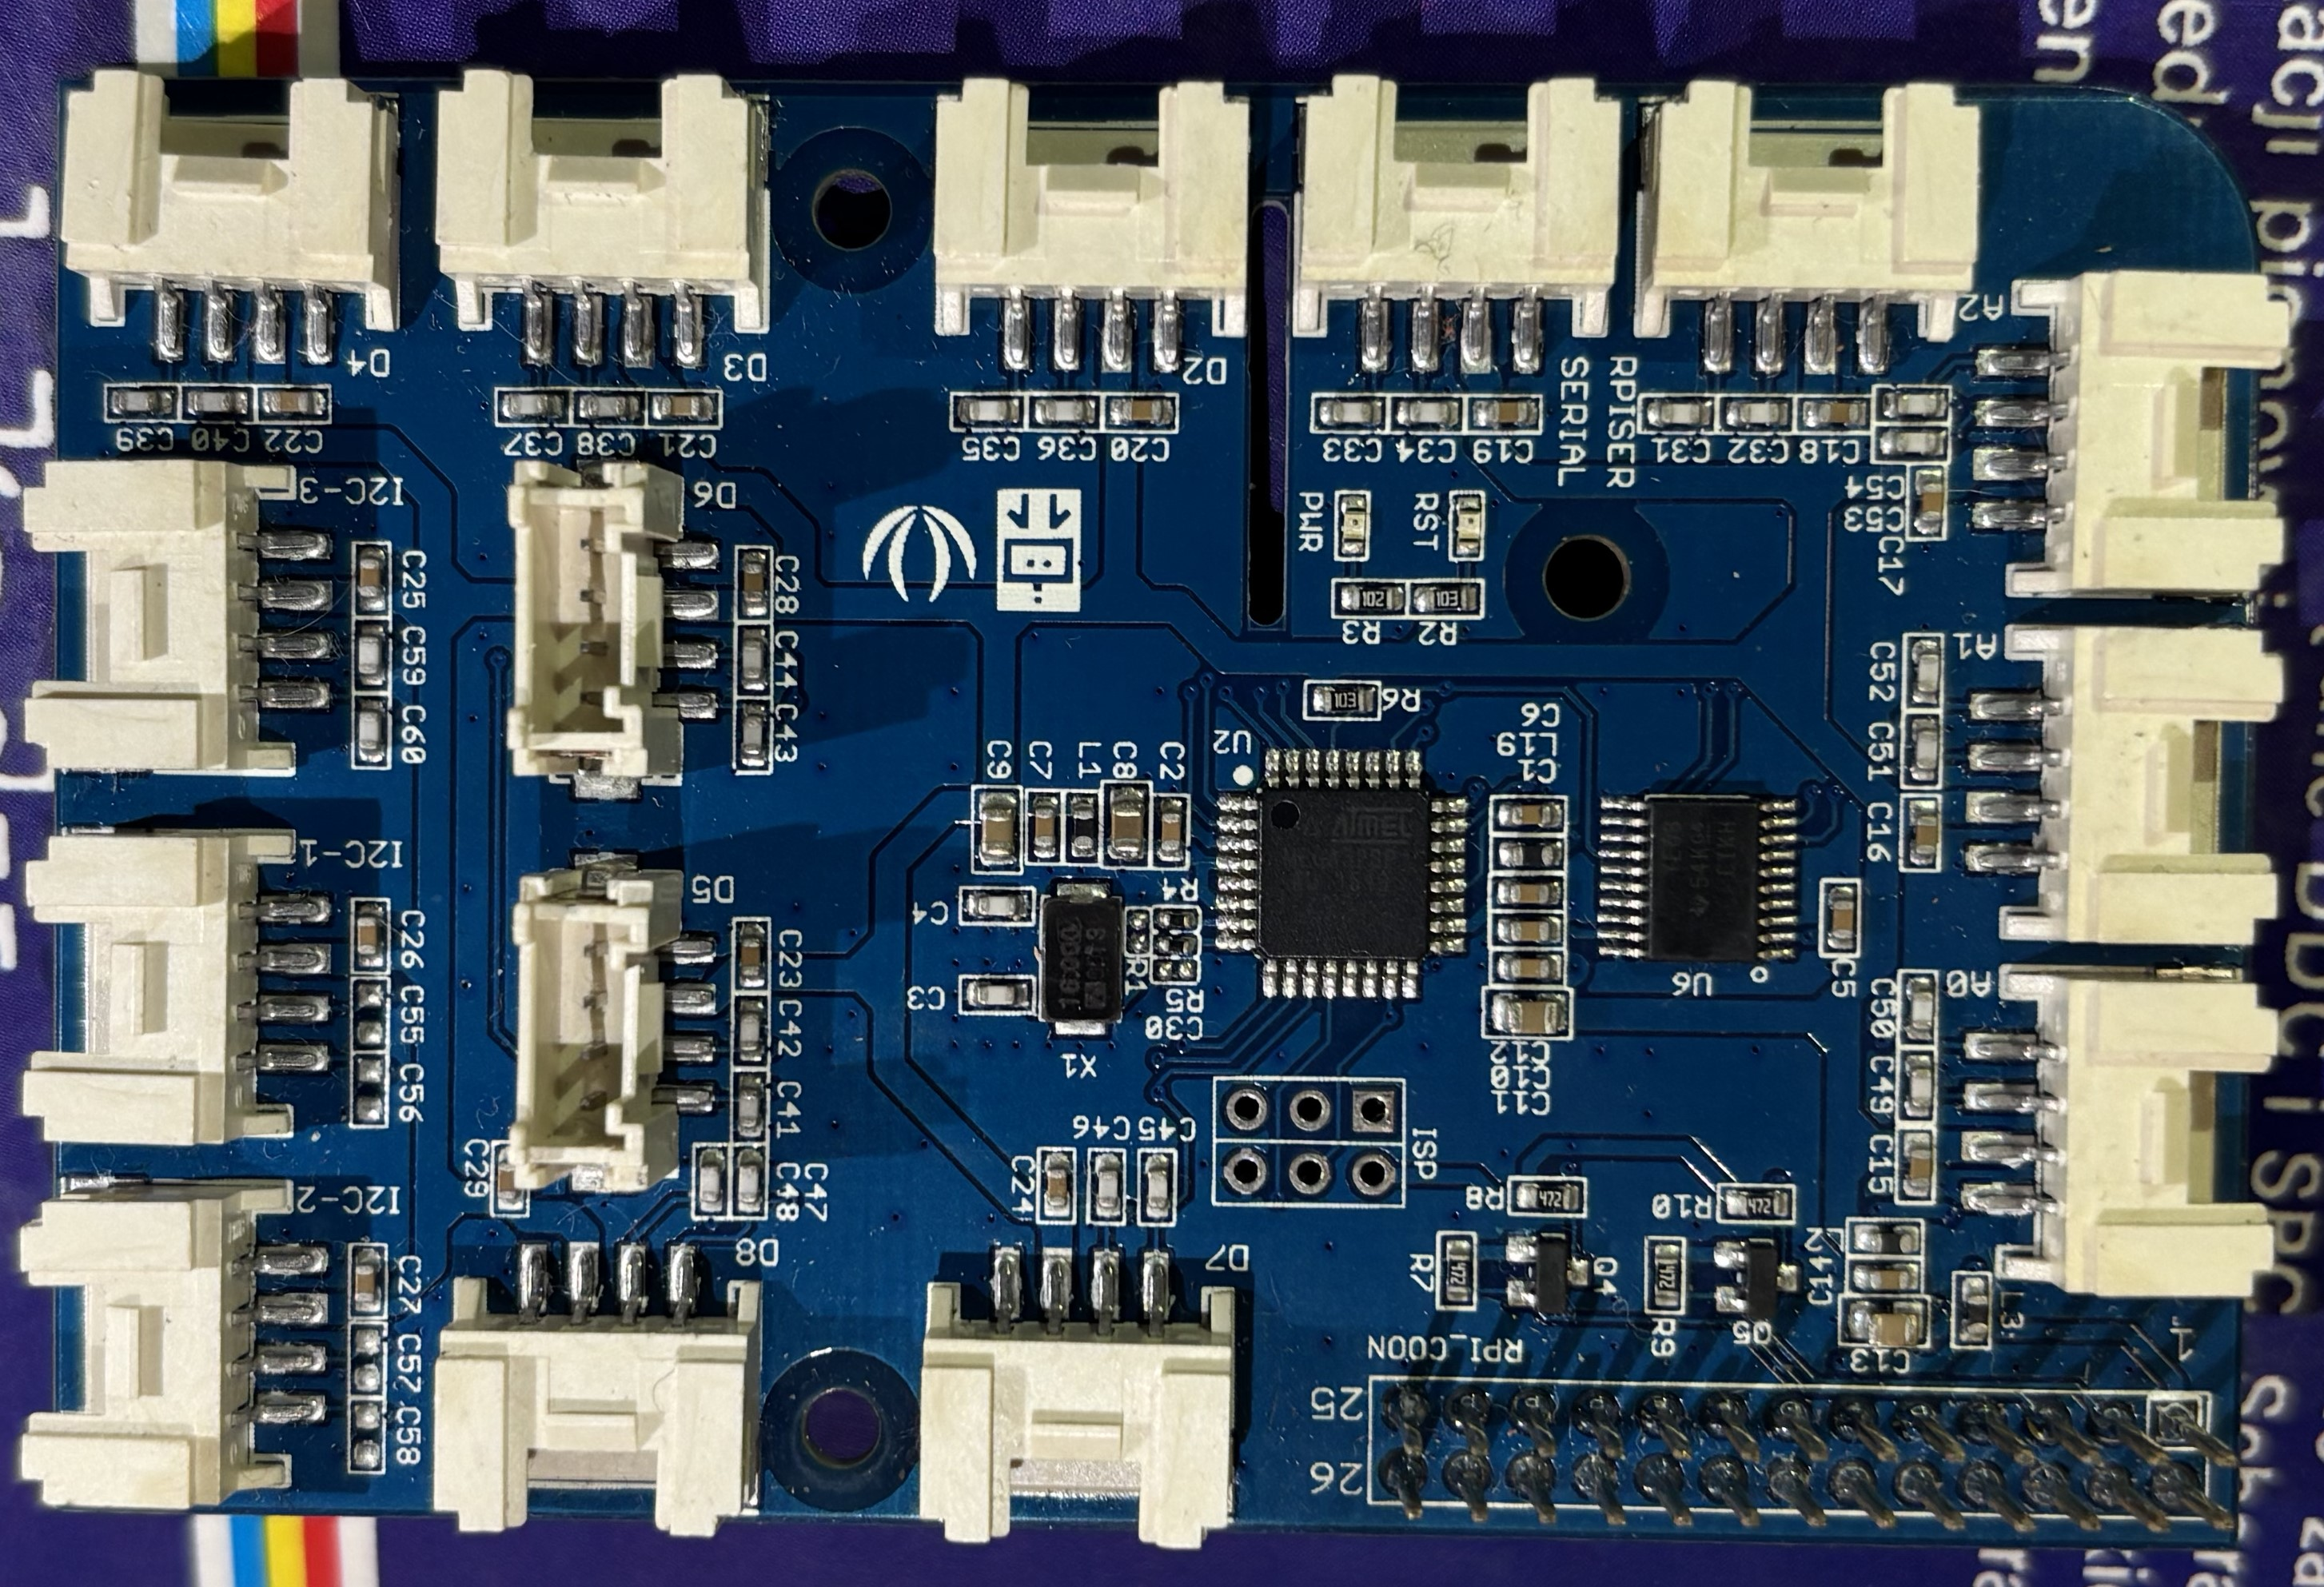Induktor: (1856, 1225, 1913, 1252), (1496, 842, 1556, 867), (1070, 801, 1095, 851), (1962, 1290, 1987, 1340)
